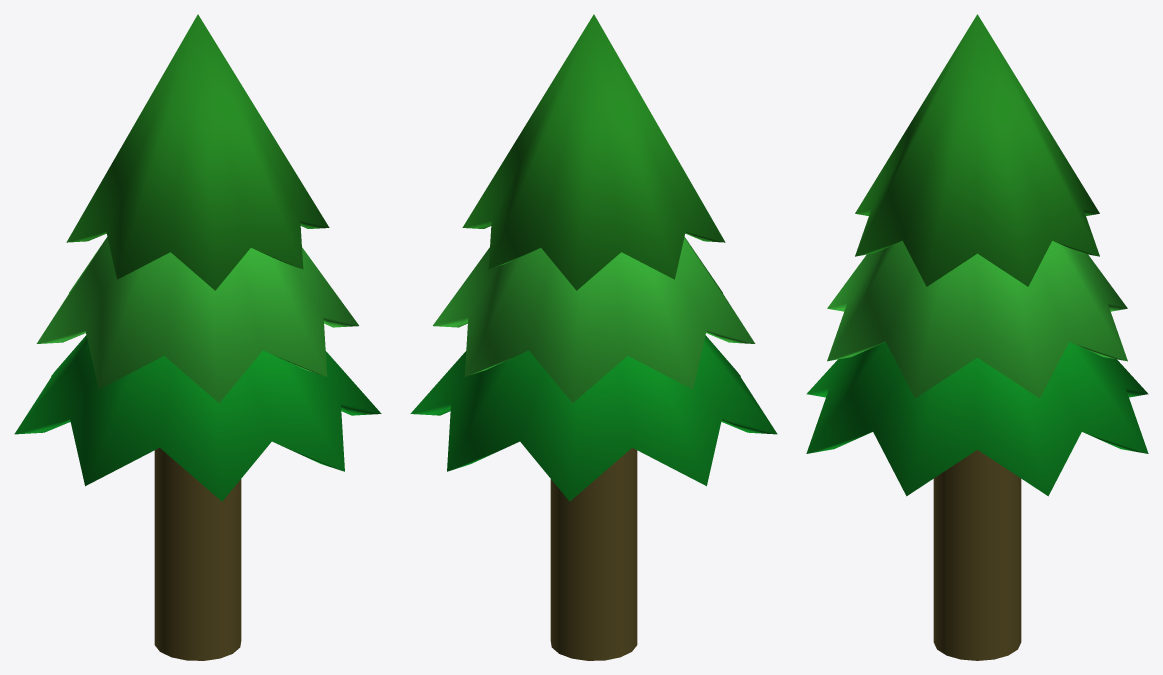
Rendered from tree05smooth.glb.
3 renders of one model, left to right at view 1: azimuth 30°, elevation 25°; view 2: azimuth 150°, elevation 25°; view 3: azimuth 270°, elevation 25°, orthographic.
Visible parts, largest first — view 1: Cylinder; view 2: Cylinder; view 3: Cylinder.
Boxes of the visible parts, box(x1,y1,x2,y2) form: Cylinder: box(14, 14, 381, 660); Cylinder: box(410, 14, 777, 660); Cylinder: box(806, 14, 1148, 660).
Bounding box in the file's own units: 4.7 × 9.51 × 4.7.
Materials: 1 (1 with a texture image).
